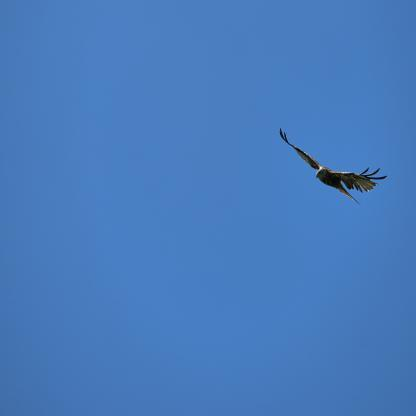bird: (279, 127, 387, 204)
